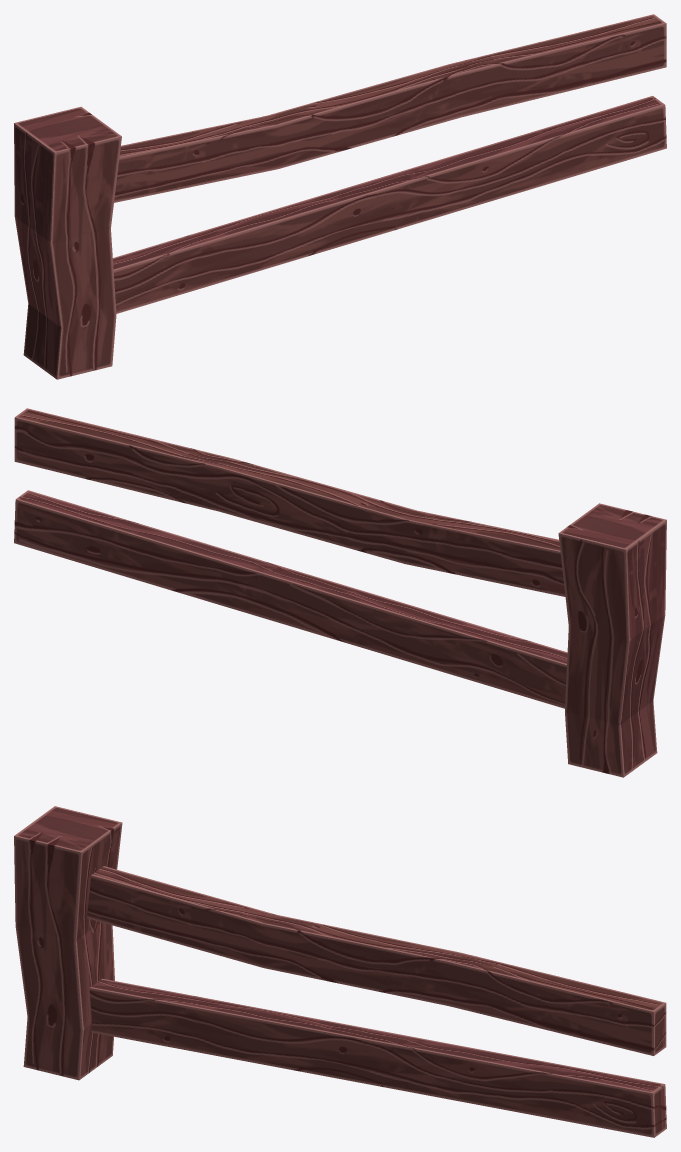
Rendered from fence_01.glb.
3 renders of one model, top to bottom at view 1: azimuth 30°, elevation 25°; view 2: azimuth 150°, elevation 25°; view 3: azimuth 330°, elevation 25°, orthographic.
Visible parts, largest first — view 1: Fence.001; view 2: Fence.001; view 3: Fence.001.
Boxes of the visible parts, left/top/right/bottom form: Fence.001: left=14, top=14, right=666, bottom=379; Fence.001: left=14, top=408, right=666, bottom=777; Fence.001: left=14, top=806, right=666, bottom=1137.
Bounding box in the file's own units: 5.67 × 2 × 0.6393.
1 material, 1 textured.
